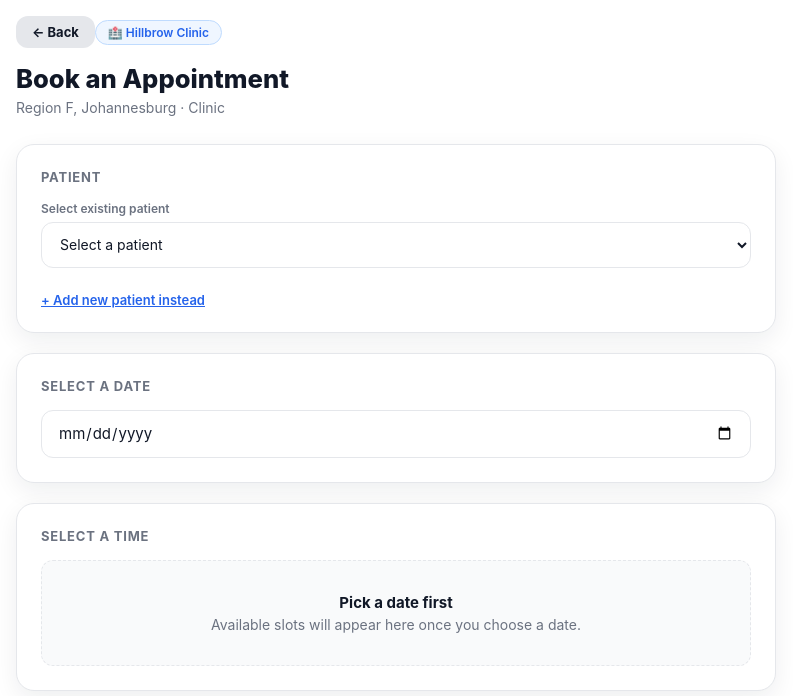
Test: BookingPage › shows no slots message when backend returns no future slots
The image size is (793, 696).
Step 1. Type "2099-05-10" into the date field named "Appointment date" → coordinates (396, 434), box 41,410 -> 751,458
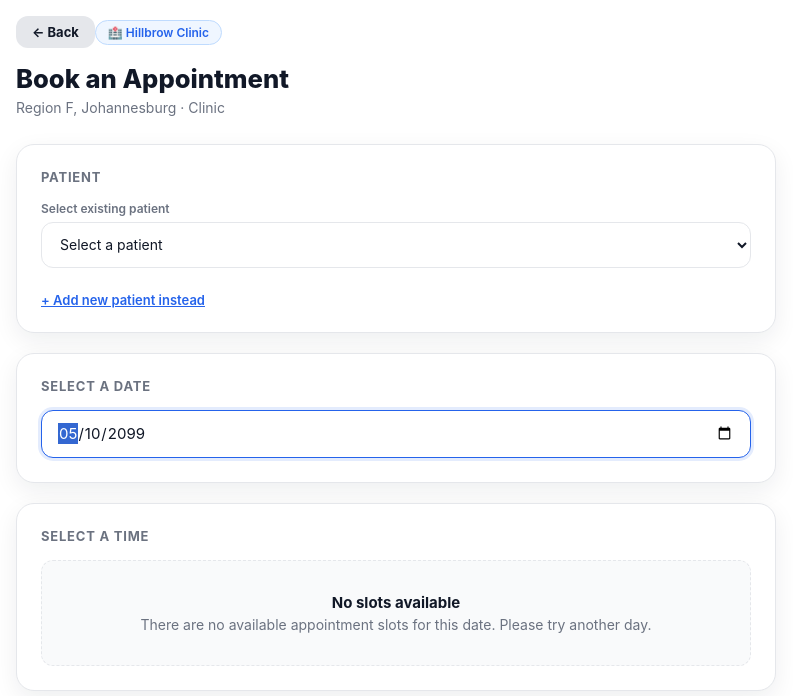
Now the text "No slots available" is shown, box 332,593 -> 460,612
Now the text "There are no available appointment slots for this date. Please try another day." is shown, box 140,616 -> 652,633
